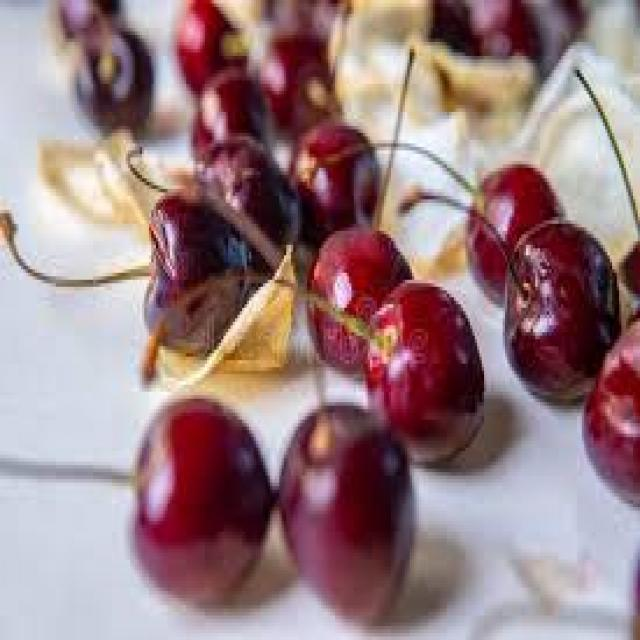organic waste: (130, 392, 280, 602), (277, 385, 410, 619), (503, 210, 621, 406), (358, 273, 482, 458), (151, 238, 291, 378), (144, 185, 254, 354), (305, 214, 407, 368), (193, 133, 296, 262), (42, 130, 153, 228), (582, 318, 638, 511), (286, 119, 379, 231), (412, 35, 535, 108), (75, 21, 152, 133), (256, 28, 337, 122), (190, 63, 268, 157), (174, 0, 247, 84), (435, 0, 531, 63), (526, 0, 582, 66), (410, 224, 463, 280), (614, 217, 638, 311), (51, 0, 118, 31), (630, 538, 638, 636)
